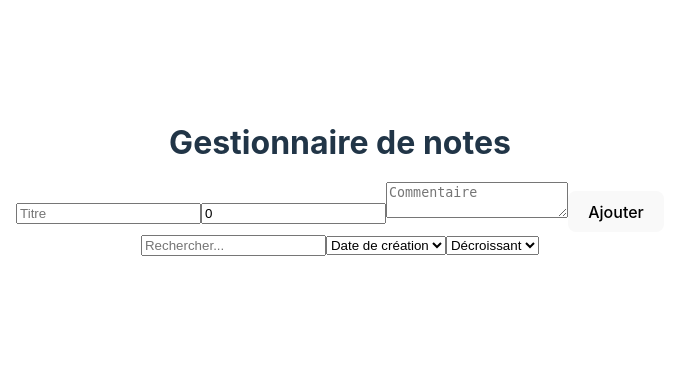
Test: template spec › add note
This screenshot has width=681, height=387.
Type "tom" into the field with test id "input-title" at (109, 214), box [16,203,201,224]
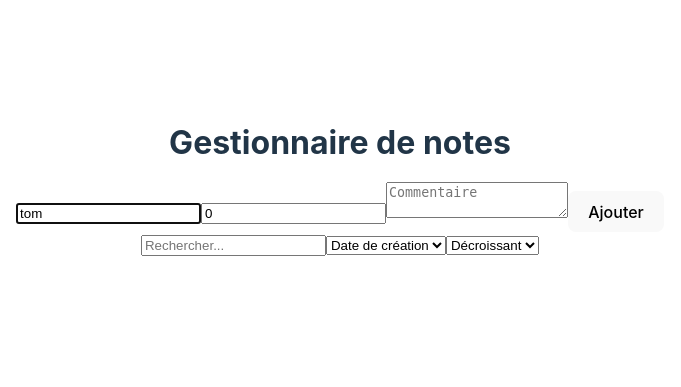
Type "4" into the number field with test id "input-note" at (294, 214), box [201,203,386,224]
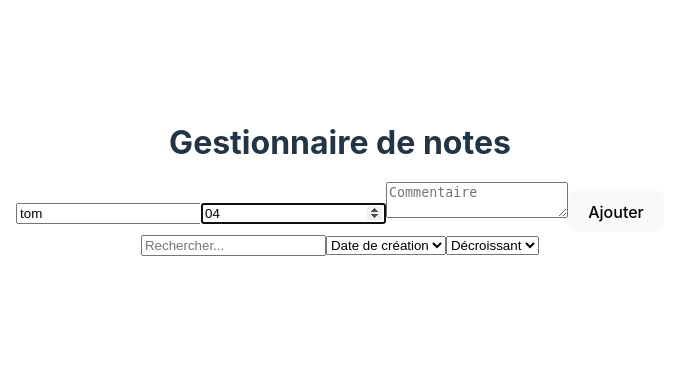
Type "hello" into the text box with test id "input-comment" at (477, 200), box [386,182,568,218]
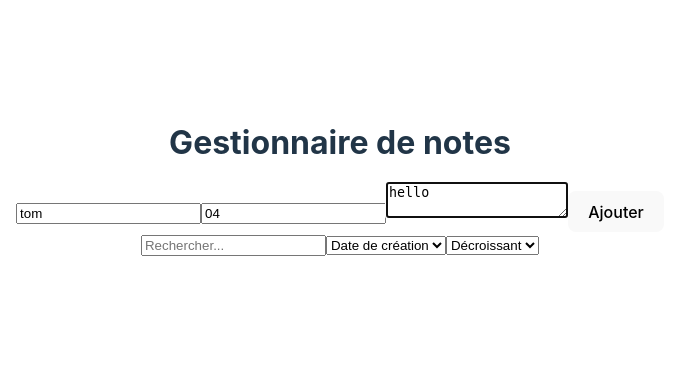
Click the button with test id "add-button" at (616, 212), box [568,191,664,232]
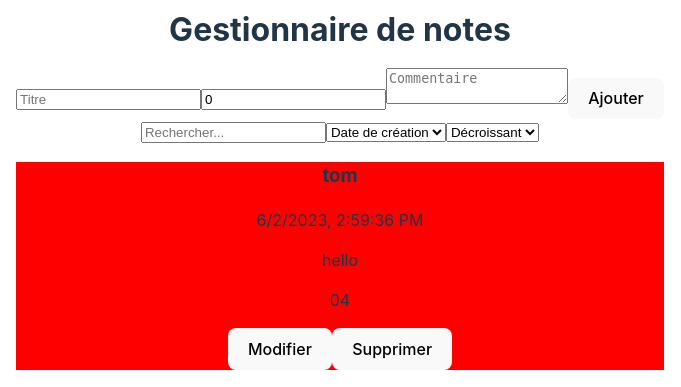
Expected: the heading with test id "note-title" reads "tom", [322,164,357,187]
